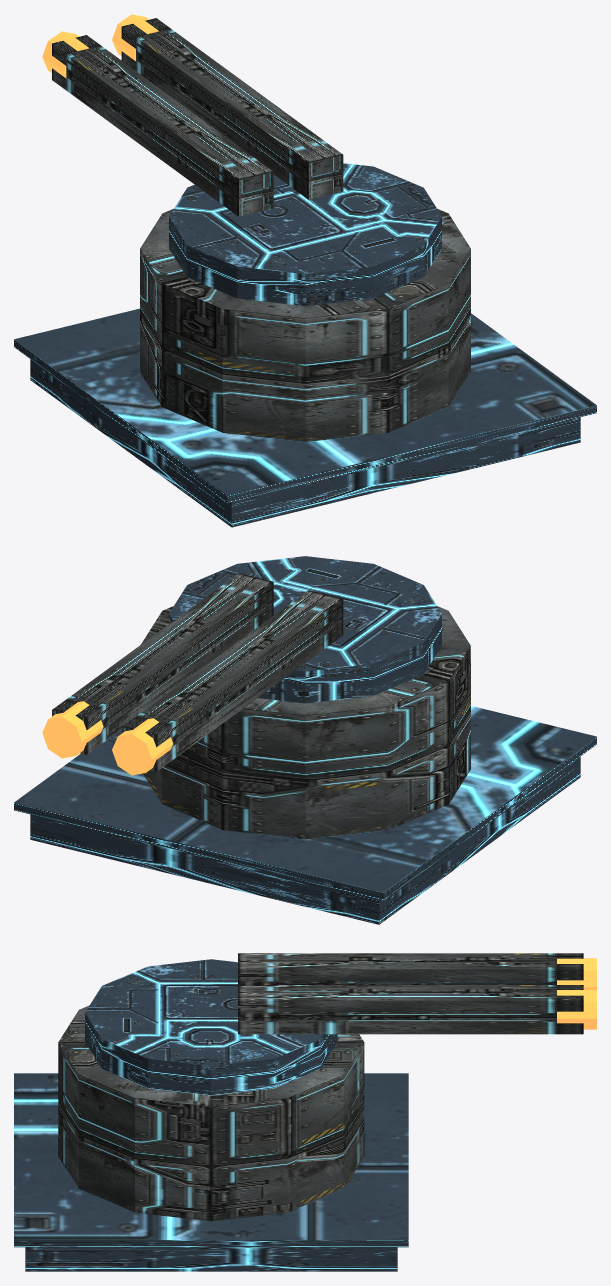
The model's file is def-001.glb.
3 views of the same model, one above another, from view 1: azimuth 30°, elevation 25°; view 2: azimuth 150°, elevation 25°; view 3: azimuth 270°, elevation 25° (orthographic). The views are drawn at different scales.
Parts seen in each view (by area): view 1: DEF001_LaserTurret; view 2: DEF001_LaserTurret; view 3: DEF001_LaserTurret.
Part boxes in pixels (x1,y1,x2,y2): DEF001_LaserTurret: (14,14,596,527); DEF001_LaserTurret: (14,556,596,924); DEF001_LaserTurret: (14,953,596,1271).
Size of the model in its own units: 2.97 by 1.81 by 4.38.
Materials: 3 (2 with a texture image).
